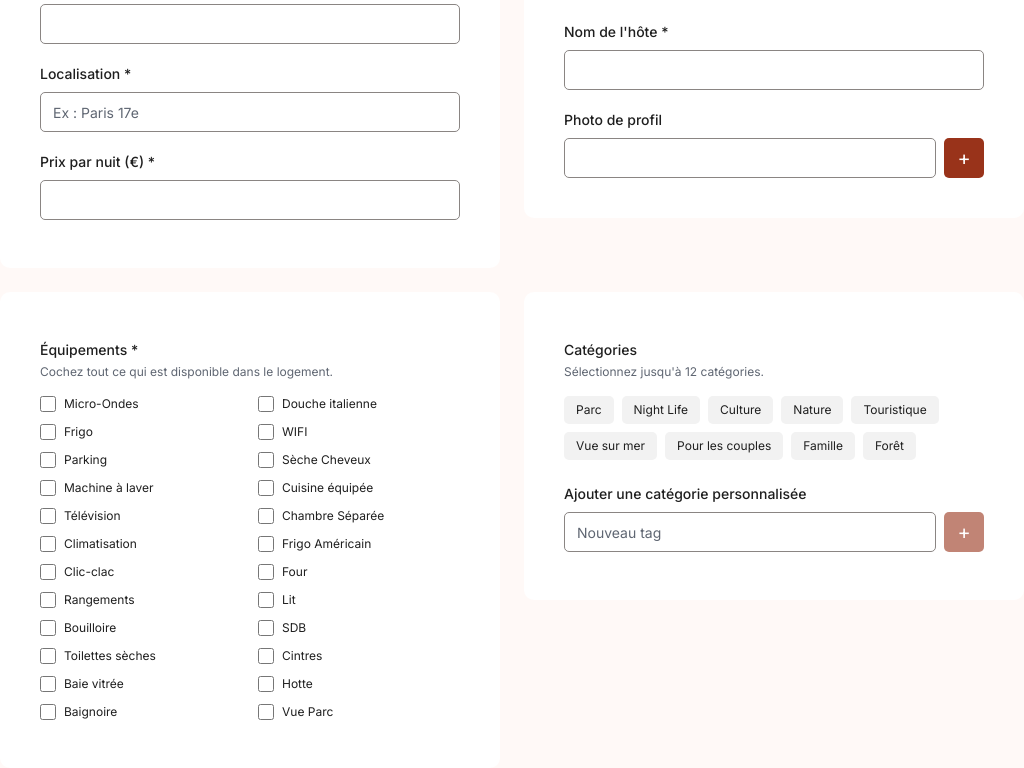
Test: PropertyForm › sélectionne des catégories et en ajoute une personnalisée
Later steps or results of the test are not shown.
(page scrolled)
Click the button "Parc".
click(589, 410)  # box left=564, top=396, right=614, bottom=424
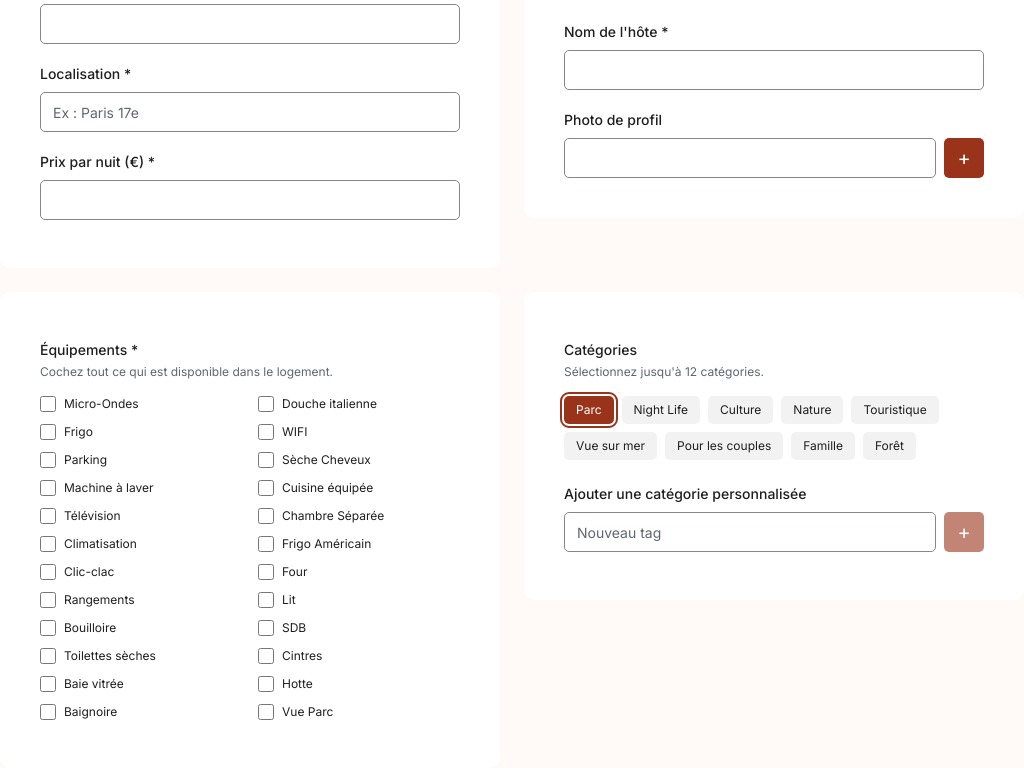
Now the button "Parc" is pressed, box left=564, top=396, right=614, bottom=424
